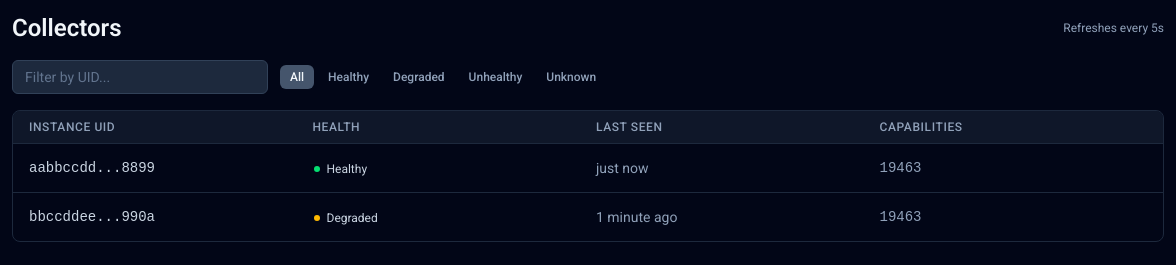
CollectorListPage › health filter shows only collectors with matching health_status
Expected: the text "aabbccdd...8899" is shown, [29,160,155,176]
Click the button "Unhealthy". click: (495, 77)
box: [459,65,532,89]
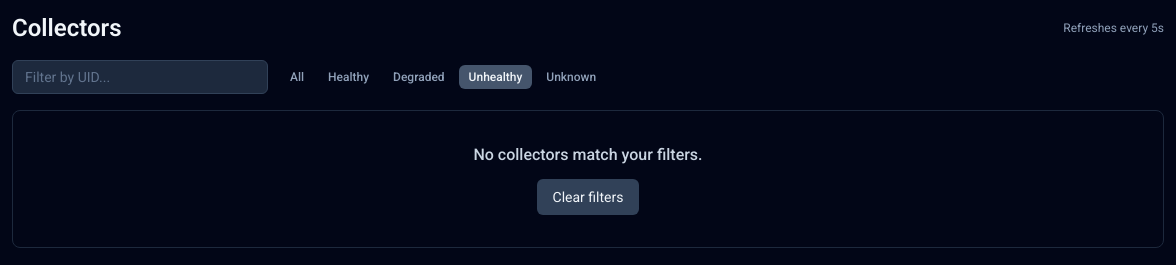
Expected: the text "No collectors match your filters." is shown, [473,145,702,164]
